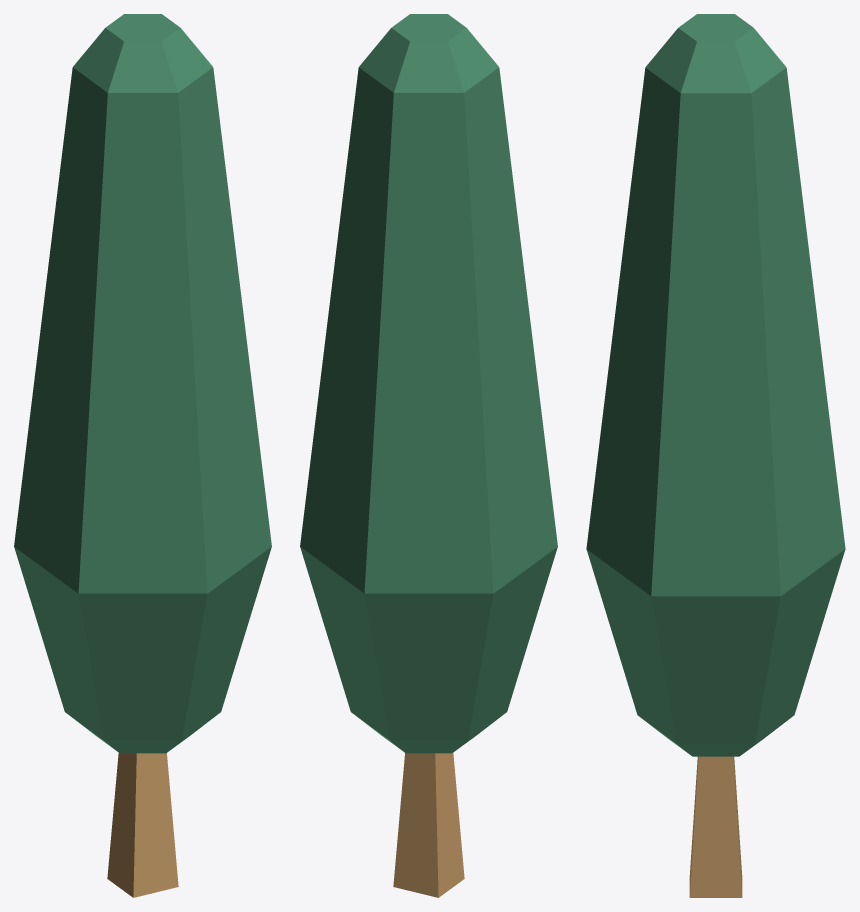
File: treeLarge.glb
3 views of the same model, side by side, from view 1: azimuth 30°, elevation 25°; view 2: azimuth 150°, elevation 25°; view 3: azimuth 270°, elevation 25° (orthographic).
Visible parts, largest first — view 1: treeLarge(Clone); view 2: treeLarge(Clone); view 3: treeLarge(Clone).
Boxes of the visible parts, x1,y1,x2,y2 form: treeLarge(Clone): (14, 14, 271, 897); treeLarge(Clone): (300, 14, 557, 897); treeLarge(Clone): (586, 14, 845, 897).
Bounding box in the file's own units: 0.3567 × 1.51 × 0.4119.
